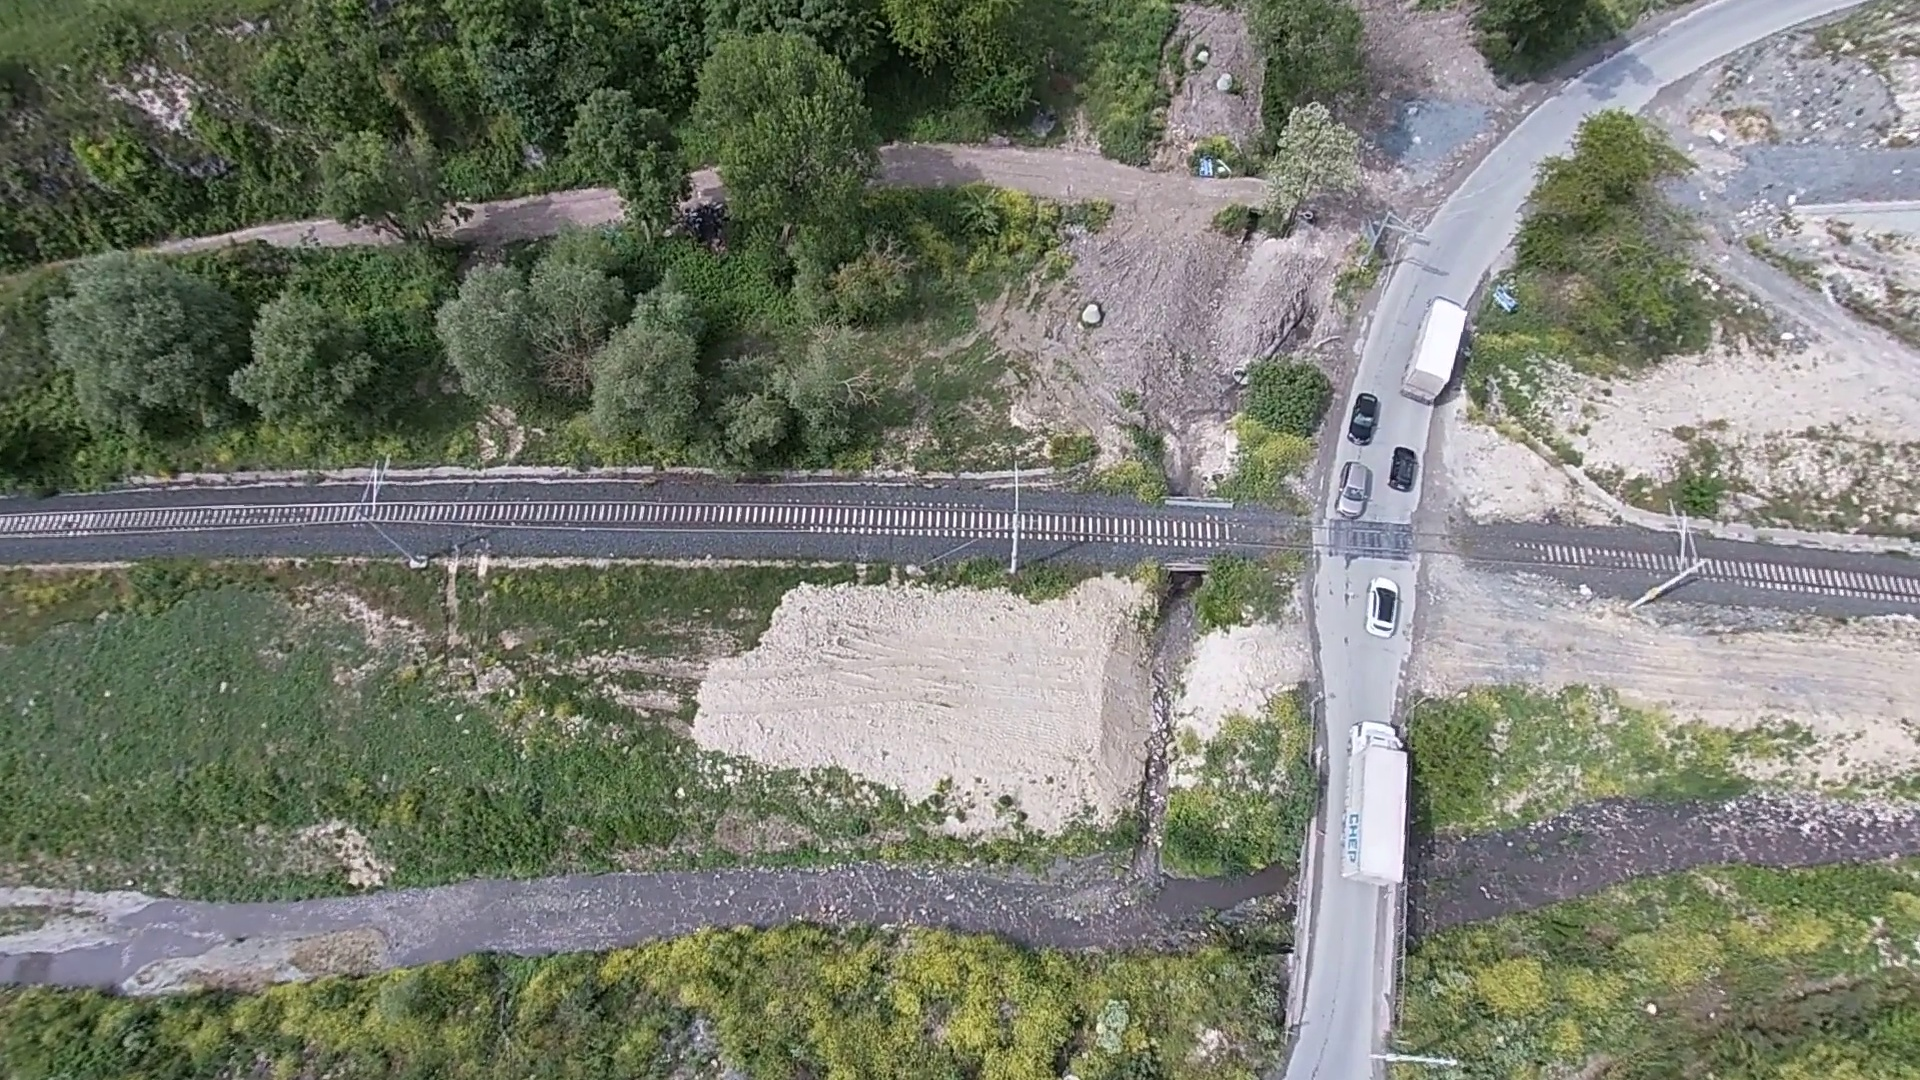arac: (1338, 711, 1418, 889), (1404, 295, 1472, 409), (1364, 571, 1411, 653), (1335, 454, 1379, 522), (1385, 442, 1424, 498), (1349, 385, 1379, 451)
